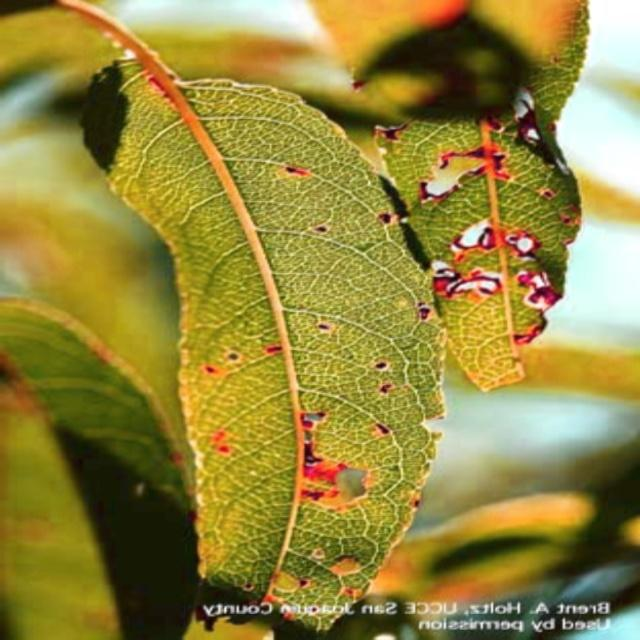shot_hole: (139, 73, 440, 600), (434, 79, 580, 389)
